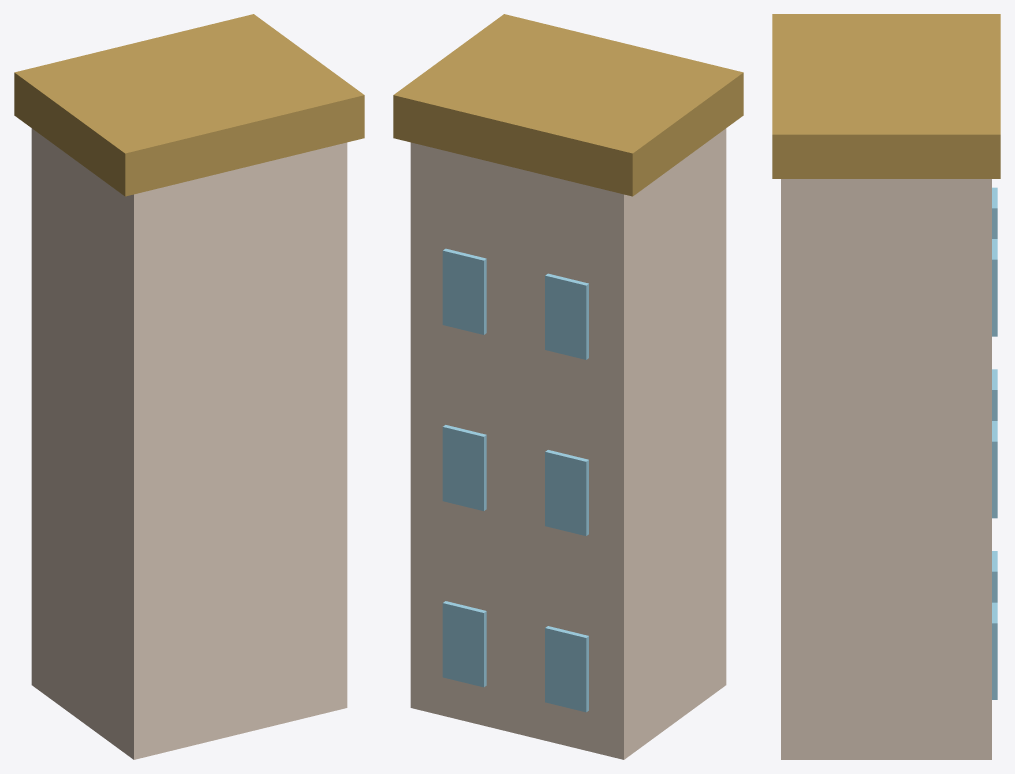
File: stage_2_midrise.glb
The picture shows the model from 3 angles, left to right: view 1: azimuth 30°, elevation 25°; view 2: azimuth 150°, elevation 25°; view 3: azimuth 270°, elevation 25°; orthographic projection. The views are drawn at different scales.
Parts seen in each view (by area): view 1: BUILDING_BODY, ROOFTOP; view 2: BUILDING_BODY, ROOFTOP, WINDOW_F0_1, WINDOW_F1_1, WINDOW_F2_1, WINDOW_F2_-1, WINDOW_F0_-1, WINDOW_F1_-1; view 3: BUILDING_BODY, ROOFTOP, WINDOW_F0_1, WINDOW_F1_1, WINDOW_F2_1.
Boxes of the visible parts, x1,y1,x2,y2 form: BUILDING_BODY: [31, 128, 347, 759]; ROOFTOP: [14, 14, 364, 196]; BUILDING_BODY: [410, 128, 726, 759]; ROOFTOP: [393, 14, 743, 196]; WINDOW_F0_1: [442, 601, 486, 687]; WINDOW_F1_1: [442, 425, 486, 511]; WINDOW_F2_1: [442, 248, 486, 334]; WINDOW_F2_-1: [545, 273, 588, 359]; WINDOW_F0_-1: [545, 626, 588, 712]; WINDOW_F1_-1: [545, 450, 588, 535]; BUILDING_BODY: [781, 179, 991, 759]; ROOFTOP: [772, 14, 1000, 178]; WINDOW_F0_1: [992, 602, 997, 699]; WINDOW_F1_1: [992, 421, 997, 518]; WINDOW_F2_1: [992, 239, 997, 336].
Size of the model in its own units: 0.64 by 1.56 by 0.513.
